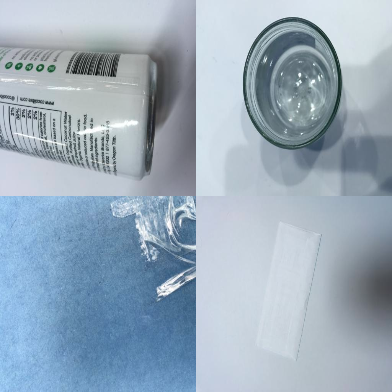cardboard: (1, 196, 195, 390)
glass: (242, 18, 342, 149)
metal: (1, 45, 157, 180)
paper: (252, 219, 322, 361)
